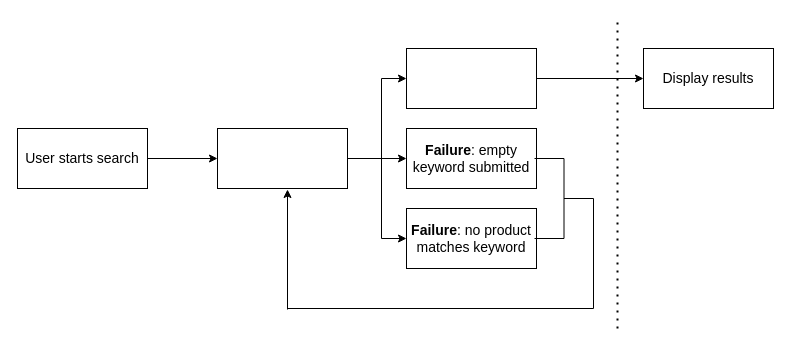
Some shapes in this 791 by 347 pixel diagram are drawn without their labels. The shapes that lost their labels are listed below. From the top down, each one's centre as x and y in pixels, then its label:
the point at 471,78: Success
the point at 282,158: User enters a keyword and click "Search"
